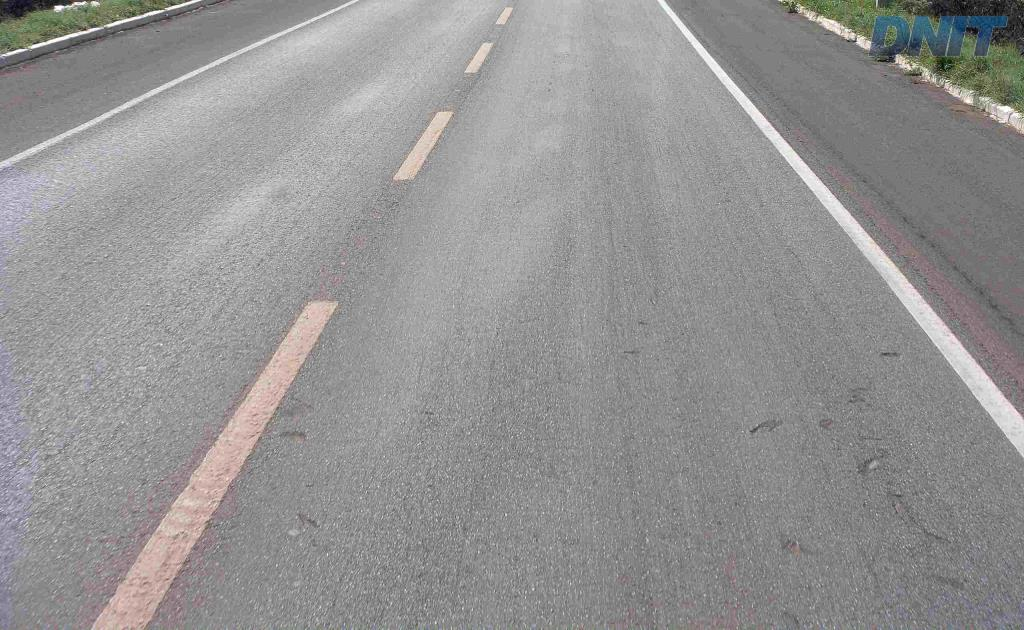pothole: (848, 447, 883, 474), (748, 415, 784, 433), (874, 349, 904, 361)
